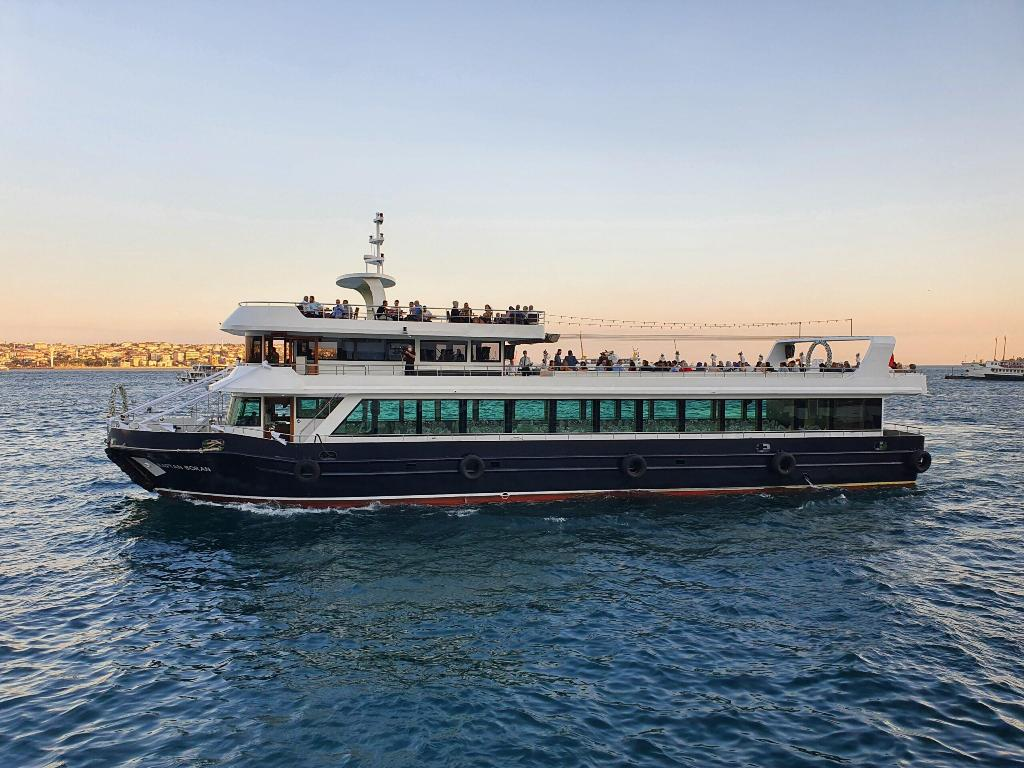PassengerShip: (82, 207, 940, 524)
